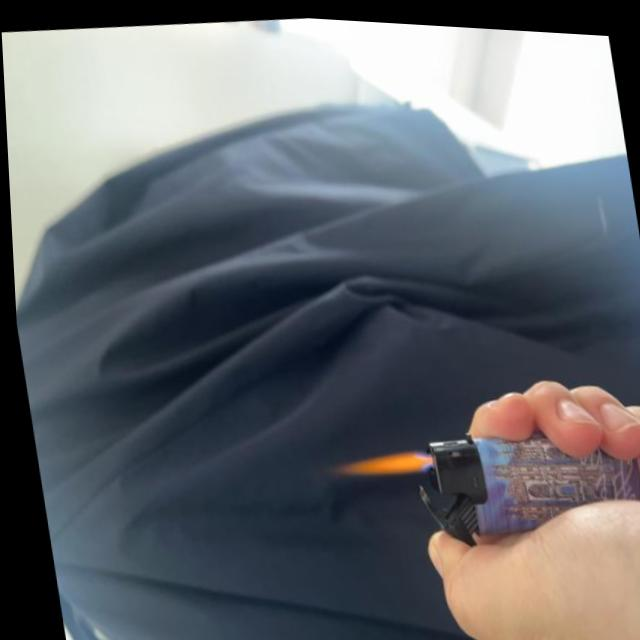Fire: (325, 439, 425, 482)
